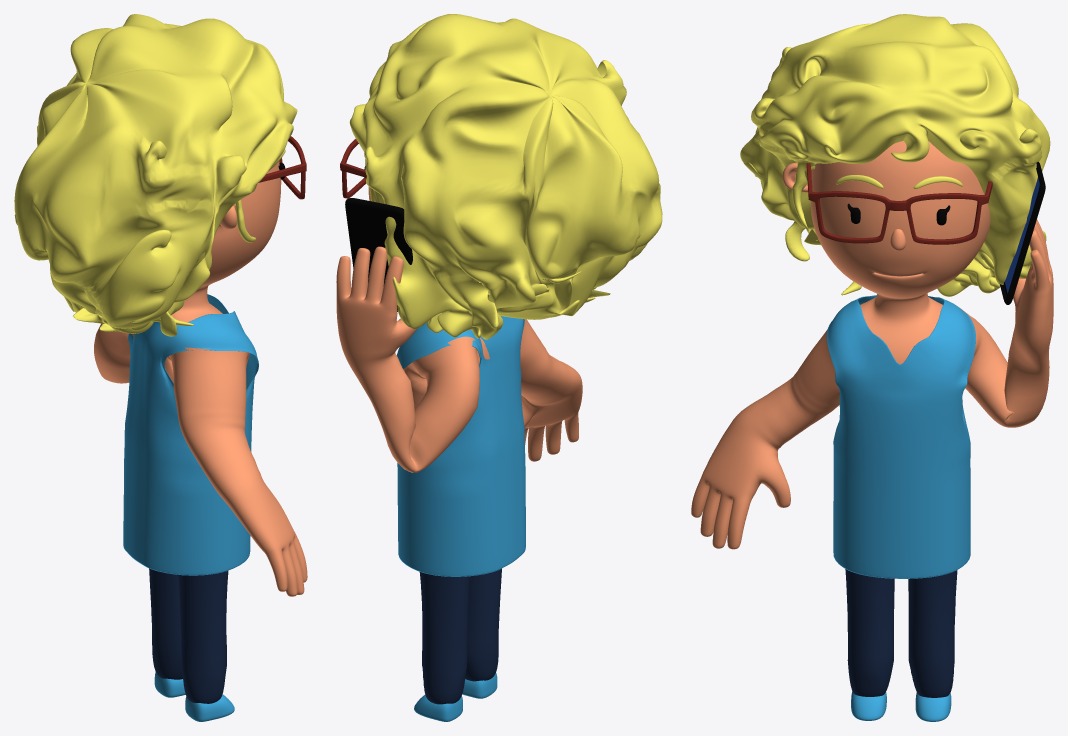
Rendered from charge_com.gltf.
3 views of the same model, side by side, from view 1: azimuth 30°, elevation 25°; view 2: azimuth 150°, elevation 25°; view 3: azimuth 270°, elevation 25° (orthographic).
Parts seen in each view (by area): view 1: Hair17, tanktop, body.002, Cube.024, head, Cube.023, Cube.025, eyeglass_3, Cube.026; view 2: Hair17, body.002, tanktop, Cube.023, Cube.024, Plane, Cube.026, eyeglass_3, Cube.025; view 3: Hair17, tanktop, body.002, head, Cube.023, Cube.024, eyeglass_3, Plane, Cube.026, Cube.025.
Part boxes in pixels (bbox=[...]): Hair17: bbox=[14, 14, 297, 336]; tanktop: bbox=[123, 294, 258, 575]; body.002: bbox=[94, 323, 307, 596]; Cube.024: bbox=[178, 570, 228, 703]; head: bbox=[132, 161, 281, 338]; Cube.023: bbox=[149, 568, 182, 679]; Cube.025: bbox=[185, 694, 234, 721]; eyeglass_3: bbox=[258, 136, 306, 199]; Cube.026: bbox=[154, 672, 185, 697]; Hair17: bbox=[349, 14, 662, 339]; body.002: bbox=[336, 246, 582, 472]; tanktop: bbox=[397, 316, 525, 576]; Cube.023: bbox=[419, 572, 469, 704]; Cube.024: bbox=[465, 568, 501, 681]; Plane: bbox=[345, 198, 412, 311]; Cube.026: bbox=[414, 694, 462, 721]; eyeglass_3: bbox=[340, 139, 366, 198]; Cube.025: bbox=[462, 673, 497, 698]; Hair17: bbox=[740, 14, 1050, 296]; tanktop: bbox=[826, 295, 975, 578]; body.002: bbox=[691, 219, 1053, 549]; head: bbox=[782, 141, 990, 364]; Cube.023: bbox=[908, 570, 957, 697]; Cube.024: bbox=[845, 569, 894, 696]; eyeglass_3: bbox=[806, 163, 992, 244]; Plane: bbox=[999, 162, 1045, 304]; Cube.026: bbox=[915, 692, 951, 721]; Cube.025: bbox=[851, 691, 886, 720].
Size of the model in its own units: 4.96 by 12.53 by 6.11.
